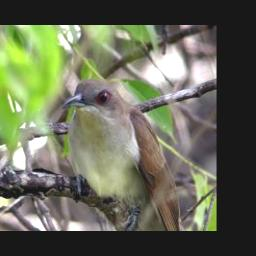Cuckoo: (62, 77, 181, 231)
